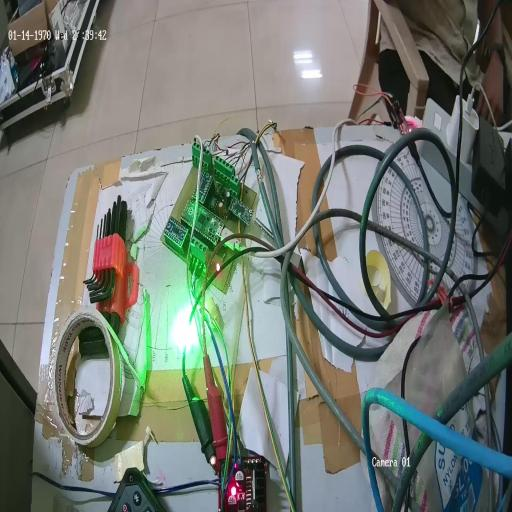laser: (168, 298, 202, 360)
